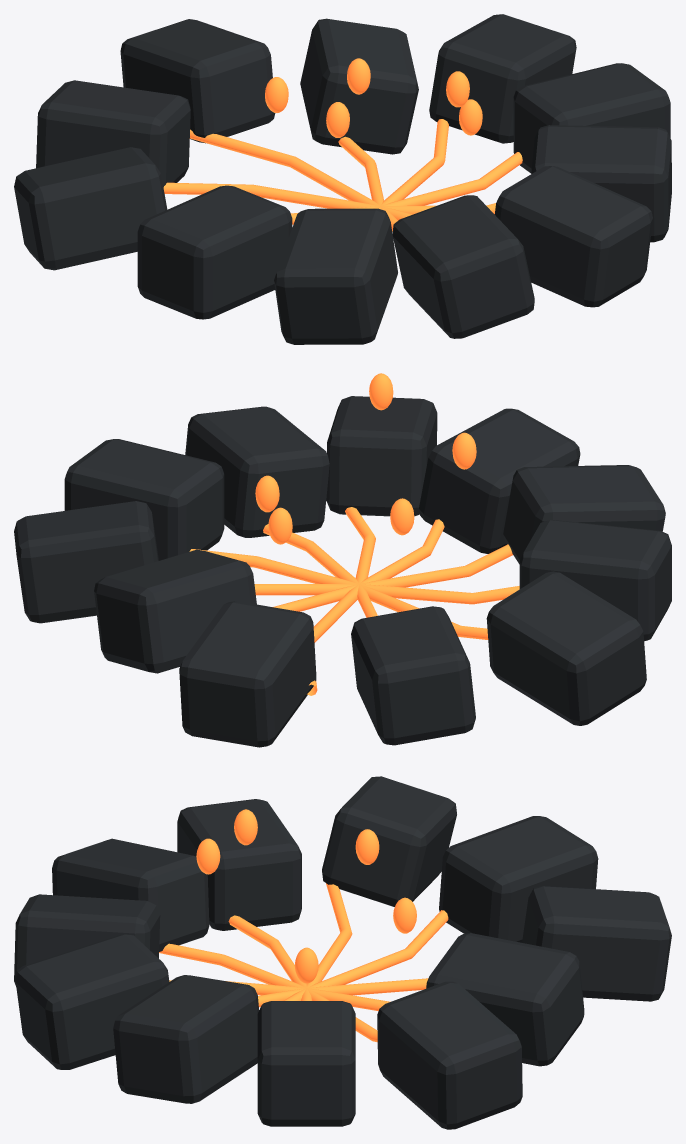
File: ember_vent.glb
3 views of the same model, one above another, from view 1: azimuth 30°, elevation 25°; view 2: azimuth 150°, elevation 25°; view 3: azimuth 270°, elevation 25° (orthographic). The views are drawn at different scales.
Parts seen in each view (by area): view 1: ember_vent; view 2: ember_vent; view 3: ember_vent.
Part boxes in pixels (x1,y1,x2,y2): ember_vent: (14,14,671,344); ember_vent: (14,373,671,747); ember_vent: (14,776,671,1129).
Bounding box in the file's own units: 1.23 × 0.3785 × 1.21.
